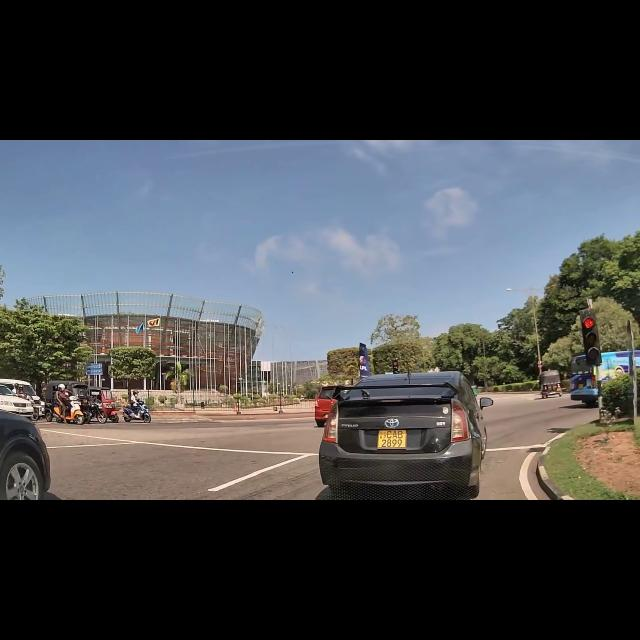car: (348, 378, 467, 484)
number_plate: (377, 427, 408, 449)
traffic_light: (576, 308, 604, 364)
